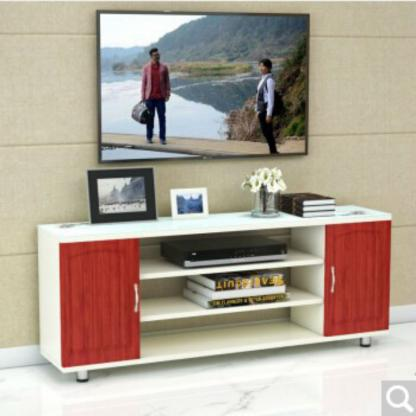TV stand: (37, 204, 390, 380)
